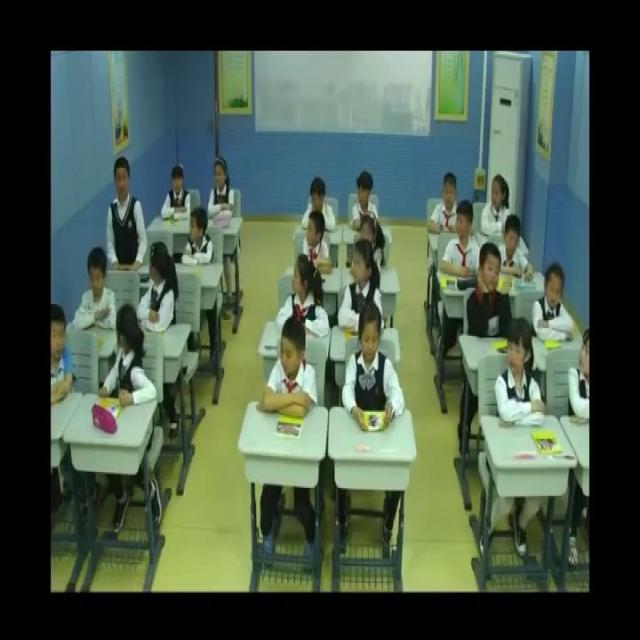distracted: (258, 314, 320, 425), (104, 303, 156, 407), (276, 254, 332, 342), (340, 235, 388, 335), (139, 241, 178, 332), (440, 202, 484, 282), (565, 327, 596, 423), (302, 170, 336, 238), (484, 170, 516, 238), (182, 202, 214, 268), (350, 170, 380, 233), (305, 212, 334, 277)
focused: (342, 300, 408, 434), (494, 320, 548, 428), (106, 158, 147, 278), (467, 243, 514, 343), (533, 265, 579, 351), (74, 249, 118, 338), (48, 305, 78, 408), (498, 212, 536, 288), (429, 170, 468, 236), (206, 157, 237, 228), (160, 161, 192, 226), (358, 213, 384, 277)
